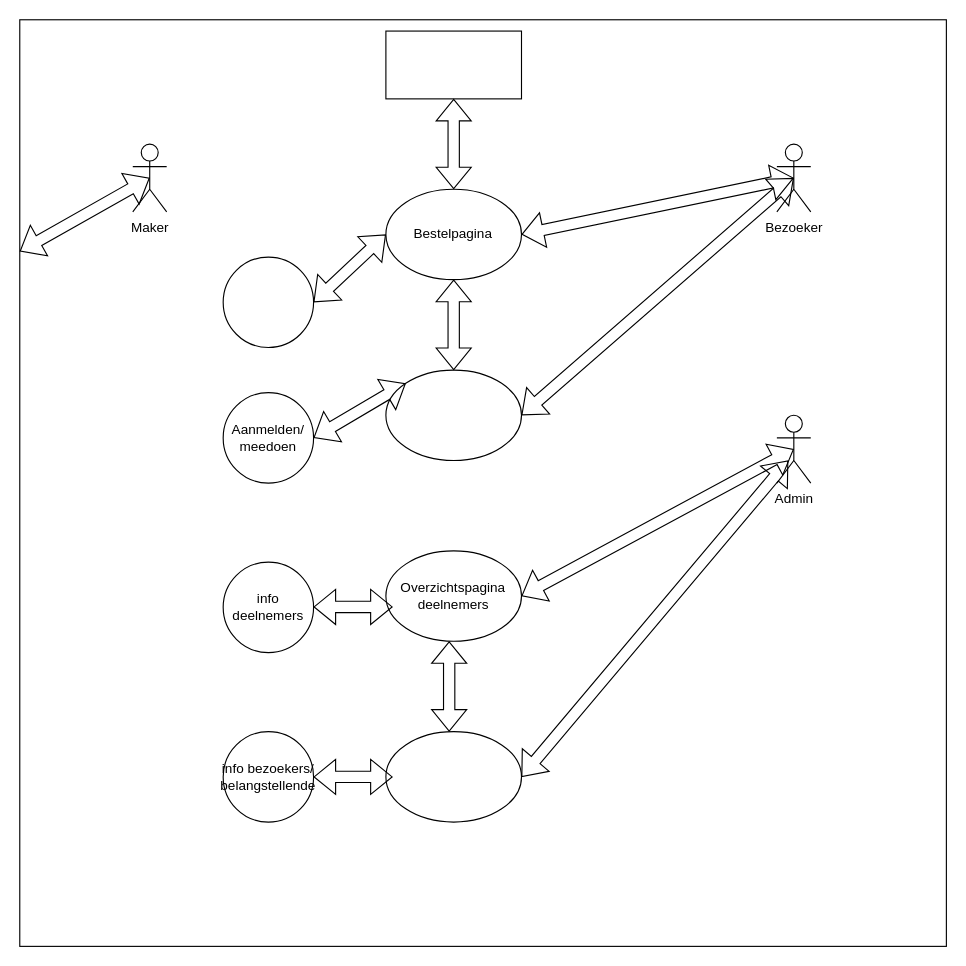
The diagram is 966 pixels wide and 966 high, and some of its shapes have lost their labels. Each missing label, with the centre of its shape:
"Aanmeldpagina" goes at [453,414].
"Kaarten bestellen" goes at [268,301].
"Overzichtspagina belangstellende/bezoekers" goes at [453,776].
"Talenten Show website" goes at [453,64].
